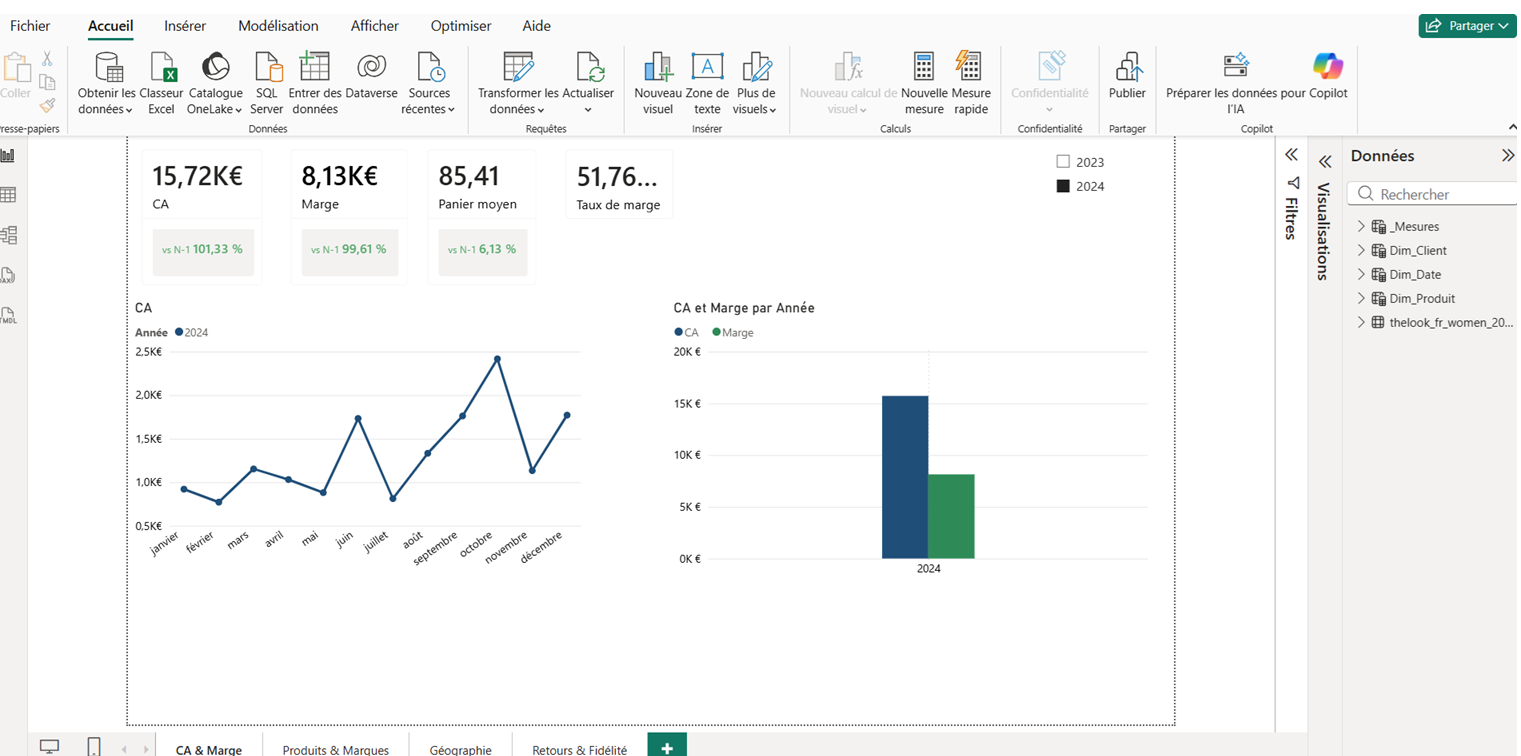

Layout of this report page (visuals, bound fields, positions):
{"tool":"powerbi","page":{"name":"CA & Marge","canvas":[1280,720],"ordinal":0},"visuals":[{"type":"cardVisual","fields":{"Data":["_Mesures.Chiffre_Affaires"]},"box":[0,0,182.5,200.3],"z":0},{"type":"cardVisual","fields":{"Data":["_Mesures.Marge_Brute"]},"box":[182.7,0,177.2,200.6],"z":1000},{"type":"cardVisual","fields":{"Data":["_Mesures.Panier_Moyen"]},"box":[349.9,0,167.4,200.3],"z":2000},{"type":"cardVisual","fields":{"Data":["_Mesures.Taux_Marge"]},"box":[517.9,0,166.2,119.5],"z":3000},{"type":"slicer","fields":{"Values":["Dim_Date.Année","Dim_Date.Année"]},"box":[1099.1,12.3,167.4,76.8],"z":4000},{"type":"lineChart","title":"CA ","fields":{"Category":["Dim_Date.Nom_Mois"],"Series":["Dim_Date.Année"],"Y":["_Mesures.Chiffre_Affaires"]},"box":[4.1,200.3,555.7,348.5],"z":5000},{"type":"clusteredColumnChart","fields":{"Category":["Dim_Date.Année"],"Y":["_Mesures.CA","_Mesures.Marge"]},"box":[662.8,200.3,590.1,348.5],"z":6000}]}

Visuals, with their boxes on the page's 1280x720 design canvas (x1, y1, x2, y2). These are canvas units, not pixel positions in the 1521x756 screenshot, which may show the page scaled, cropped or inside an application window:
cardVisual - _Mesures.Chiffre_Affaires: 0/0/182/200
cardVisual - _Mesures.Marge_Brute: 183/0/360/201
cardVisual - _Mesures.Panier_Moyen: 350/0/517/200
cardVisual - _Mesures.Taux_Marge: 518/0/684/120
slicer - Dim_Date.Année x Dim_Date.Année: 1099/12/1266/89
"CA " lineChart: 4/200/560/549
clusteredColumnChart - Dim_Date.Année x _Mesures.CA: 663/200/1253/549
